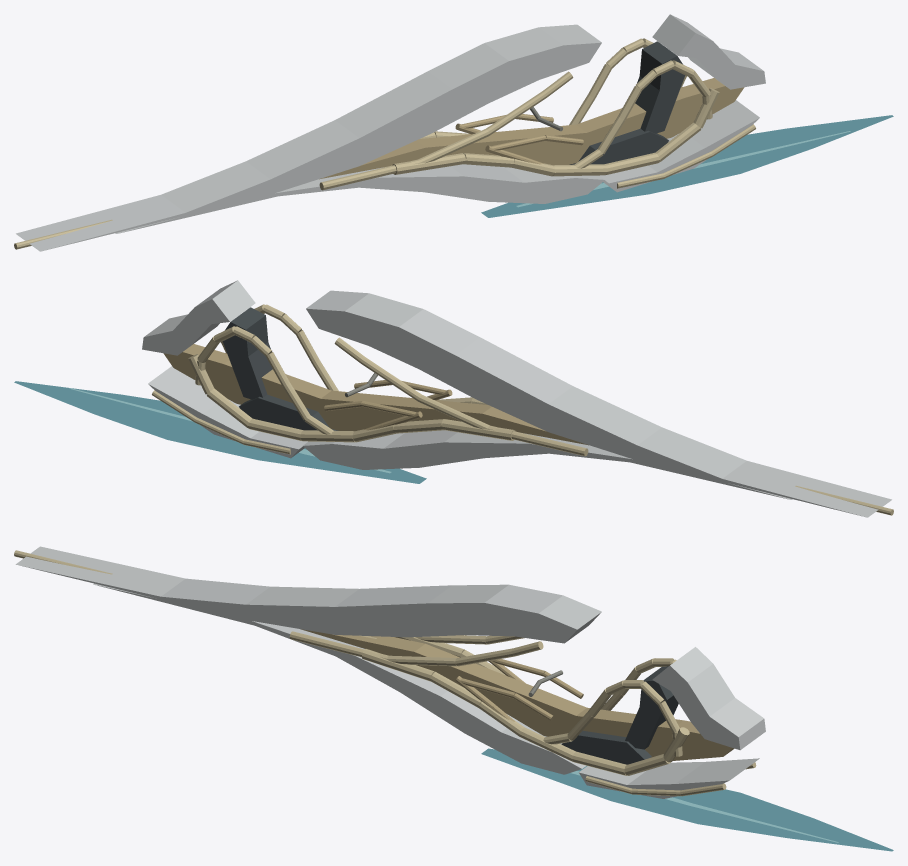
The model's file is ruch_white_flight.glb.
The picture shows the model from 3 angles, top to bottom: view 1: azimuth 30°, elevation 25°; view 2: azimuth 150°, elevation 25°; view 3: azimuth 330°, elevation 25°; orthographic projection.
Visible parts, largest first — view 1: upper_blade_0, spine_3, lower_blade_1, ground_wake_13, gold_frame_8, rear_fairing_6, aft_lower_7, cockpit_arch_9, seat_back_5, seat_base_4, structural_braces_10, rear_rail_11 (+1 smaller); view 2: upper_blade_0, spine_3, lower_blade_1, ground_wake_13, gold_frame_8, rear_fairing_6, aft_lower_7, cockpit_arch_9, seat_back_5, seat_base_4, structural_braces_10, rear_rail_11; view 3: upper_blade_0, spine_3, ground_wake_13, gold_frame_8, lower_blade_1, rear_fairing_6, aft_lower_7, cockpit_arch_9, structural_braces_10, seat_back_5, seat_base_4, rear_rail_11.
Boxes of the visible parts, bbox=[...] form: upper_blade_0: bbox=[16, 24, 601, 251]; spine_3: bbox=[319, 78, 744, 179]; lower_blade_1: bbox=[115, 164, 604, 233]; ground_wake_13: bbox=[481, 115, 893, 217]; gold_frame_8: bbox=[319, 71, 719, 190]; rear_fairing_6: bbox=[652, 14, 765, 89]; aft_lower_7: bbox=[600, 100, 759, 192]; cockpit_arch_9: bbox=[569, 38, 712, 168]; seat_back_5: bbox=[635, 41, 685, 133]; seat_base_4: bbox=[569, 128, 668, 164]; structural_braces_10: bbox=[455, 114, 583, 164]; rear_rail_11: bbox=[617, 124, 755, 188]; upper_blade_0: bbox=[306, 290, 891, 517]; spine_3: bbox=[163, 344, 588, 445]; lower_blade_1: bbox=[303, 430, 792, 499]; ground_wake_13: bbox=[14, 381, 426, 483]; gold_frame_8: bbox=[188, 337, 588, 456]; rear_fairing_6: bbox=[142, 280, 255, 355]; aft_lower_7: bbox=[148, 366, 307, 458]; cockpit_arch_9: bbox=[195, 304, 338, 434]; seat_back_5: bbox=[222, 307, 272, 399]; seat_base_4: bbox=[239, 394, 338, 430]; structural_braces_10: bbox=[324, 380, 452, 430]; rear_rail_11: bbox=[152, 390, 290, 454]; upper_blade_0: bbox=[15, 546, 601, 643]; spine_3: bbox=[300, 629, 734, 760]; ground_wake_13: bbox=[481, 748, 893, 851]; gold_frame_8: bbox=[289, 631, 689, 775]; lower_blade_1: bbox=[93, 583, 586, 774]; rear_fairing_6: bbox=[652, 647, 765, 750]; aft_lower_7: bbox=[579, 758, 759, 798]; cockpit_arch_9: bbox=[543, 658, 682, 756]; structural_braces_10: bbox=[455, 659, 583, 721]; seat_back_5: bbox=[625, 666, 678, 749]; seat_base_4: bbox=[561, 730, 651, 764]; rear_rail_11: bbox=[585, 762, 756, 796].
Bounding box in the file's own units: 10.85 × 1.93 × 0.92.
